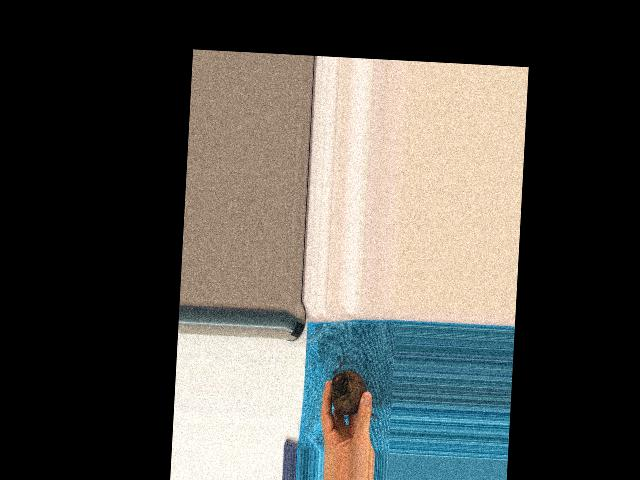beet: (330, 355, 382, 419)
